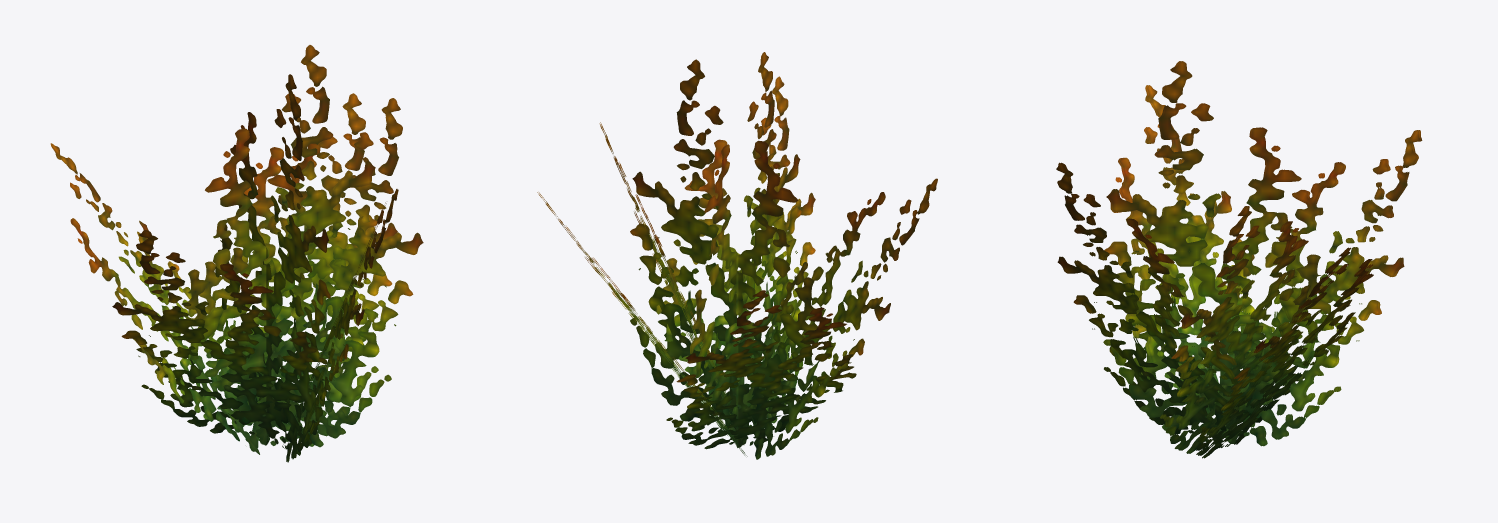
Rendered from guanmu14_zw.FBX.
The picture shows the model from 3 angles, left to right: view 1: azimuth 30°, elevation 25°; view 2: azimuth 150°, elevation 25°; view 3: azimuth 270°, elevation 25°; orthographic projection. The views are drawn at different scales.
Visible parts, largest first — view 1: guanmu14_zw_01A; view 2: guanmu14_zw_01A; view 3: guanmu14_zw_01A.
Boxes of the visible parts, x1,y1,x2,y2 form: guanmu14_zw_01A: (50,45,423,462); guanmu14_zw_01A: (537,52,937,459); guanmu14_zw_01A: (1056,61,1422,458).
Bounding box in the file's own units: 63.06 × 57.09 × 63.53.
1 material, 1 textured.
